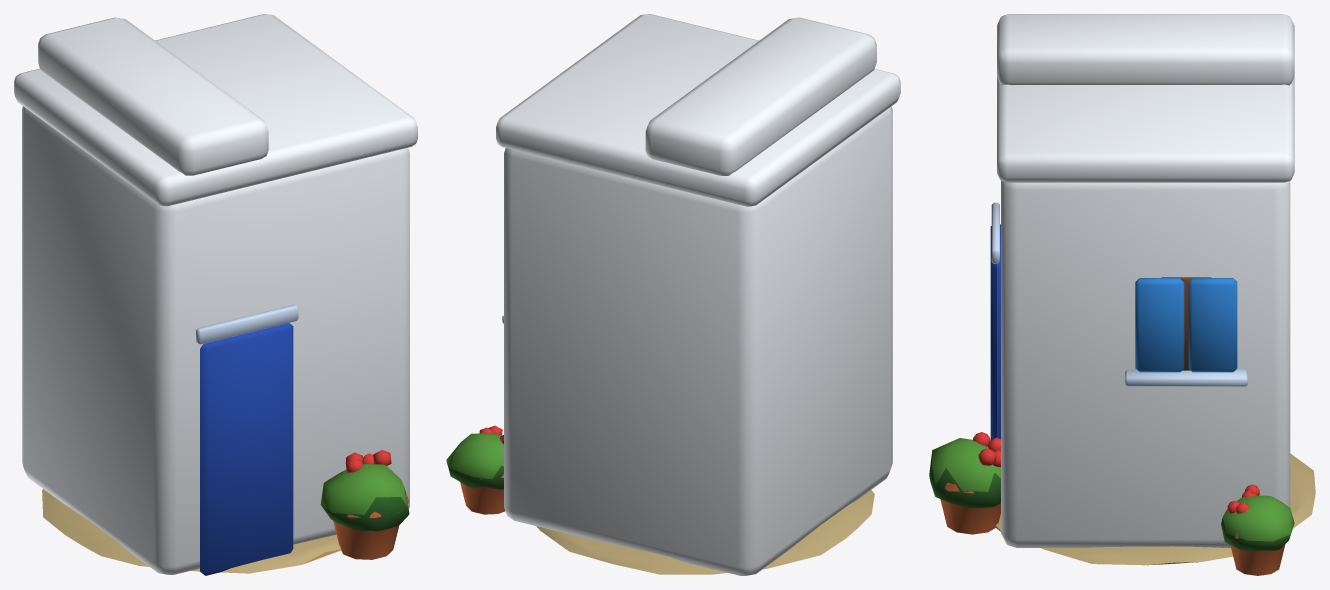
File: WhiteWall.fbx
The picture shows the model from 3 angles, left to right: view 1: azimuth 30°, elevation 25°; view 2: azimuth 150°, elevation 25°; view 3: azimuth 270°, elevation 25°; orthographic projection.
Parts seen in each view (by area): view 1: WhiteWall; view 2: WhiteWall; view 3: WhiteWall.
Boxes of the visible parts, x1,y1,x2,y2 form: WhiteWall: [14, 14, 417, 575]; WhiteWall: [446, 14, 900, 575]; WhiteWall: [929, 14, 1315, 575].
Bounding box in the file's own units: 1.88 × 2.34 × 1.9.
Materials: 1 (1 with a texture image).
